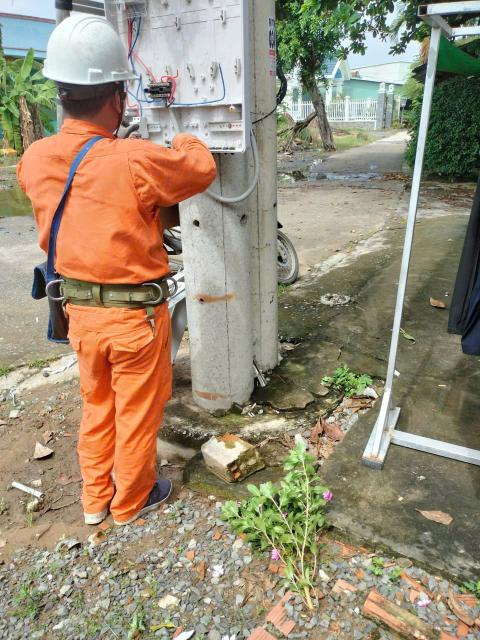harness: (33, 257, 195, 322)
helmet: (35, 7, 142, 89)
shoes: (112, 472, 172, 519), (85, 479, 120, 522)
